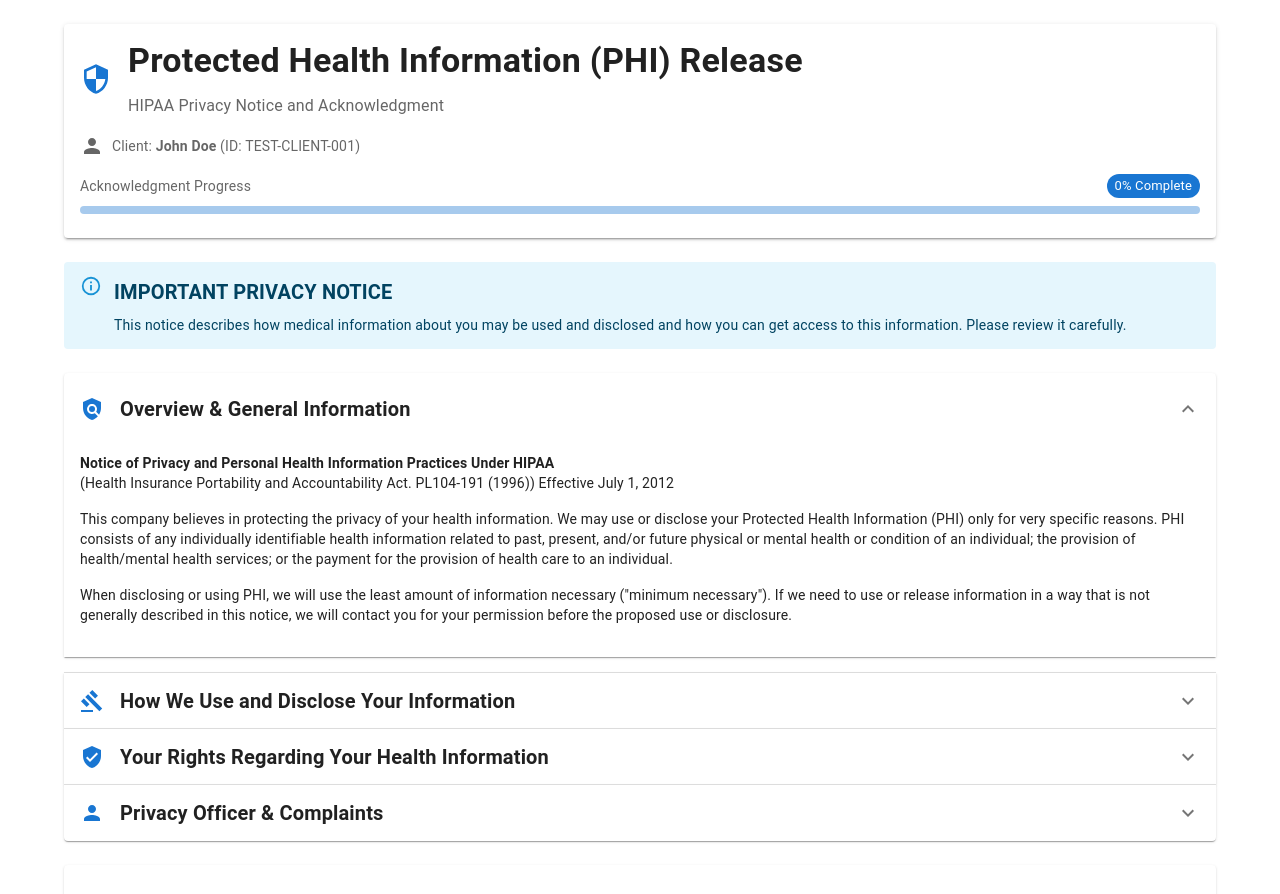
Scenario: ReleasePHI - Protected Health Information Release Form › Accordion Interaction › T10: displays privacy officer contact information
What coordinates should you click on to do the following:
click the button "Privacy Officer & Complaints"
I would click on:
 (252, 813)
Its box is [64,785,1216,841].
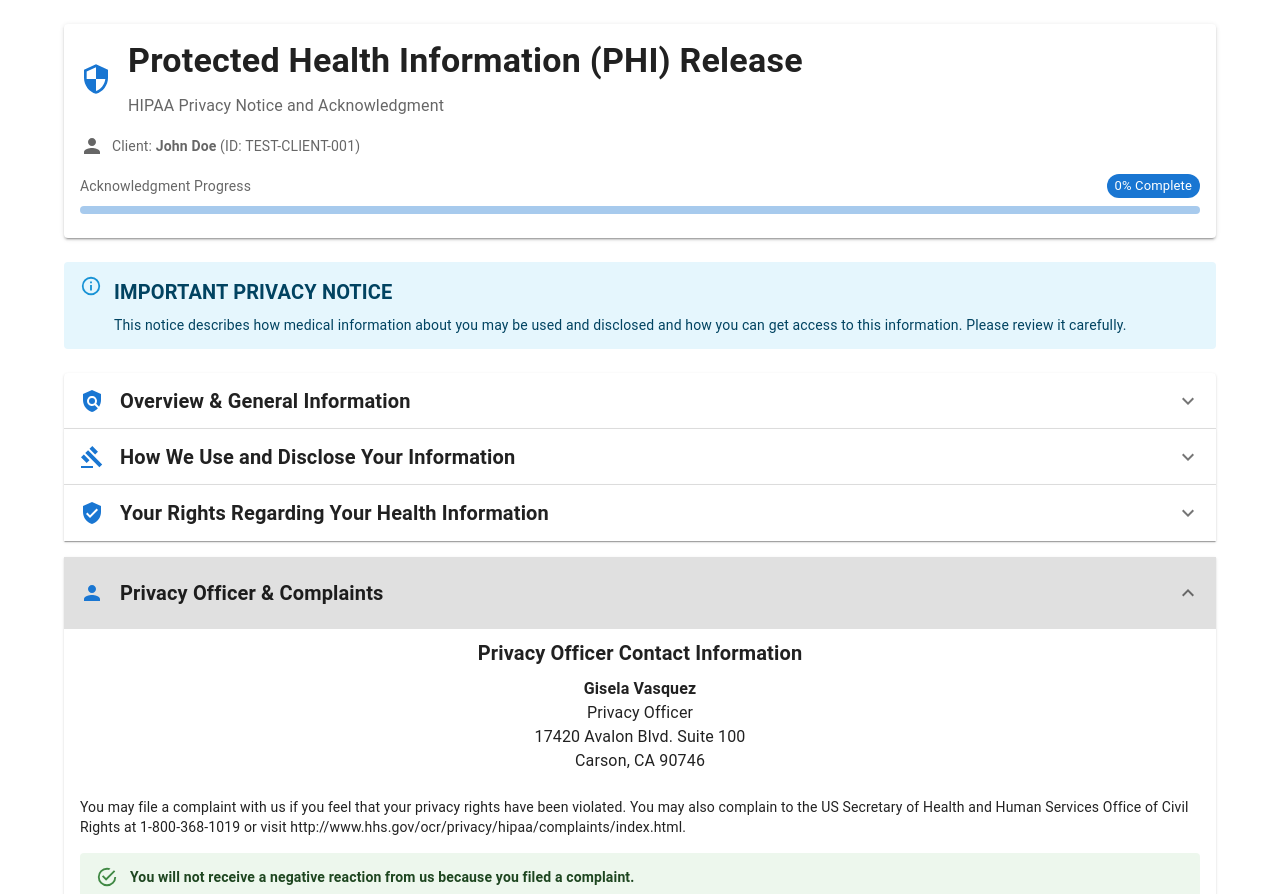
Result: the text "Gisela Vasquez" is shown at [584,679,696,698]
Result: the text "17420 Avalon Blvd" is shown at [534,727,745,746]
